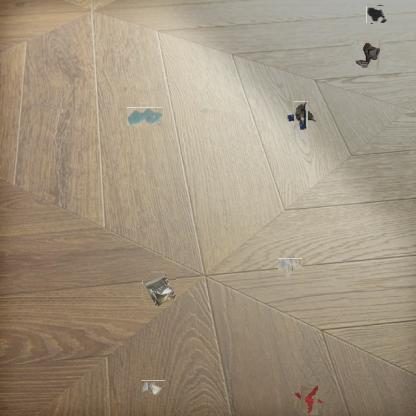dirty: (142, 272, 176, 308), (352, 40, 382, 70), (297, 388, 321, 412), (291, 105, 312, 127), (142, 380, 166, 397), (281, 256, 300, 274)
liquid: (126, 107, 162, 126), (367, 5, 386, 24)
